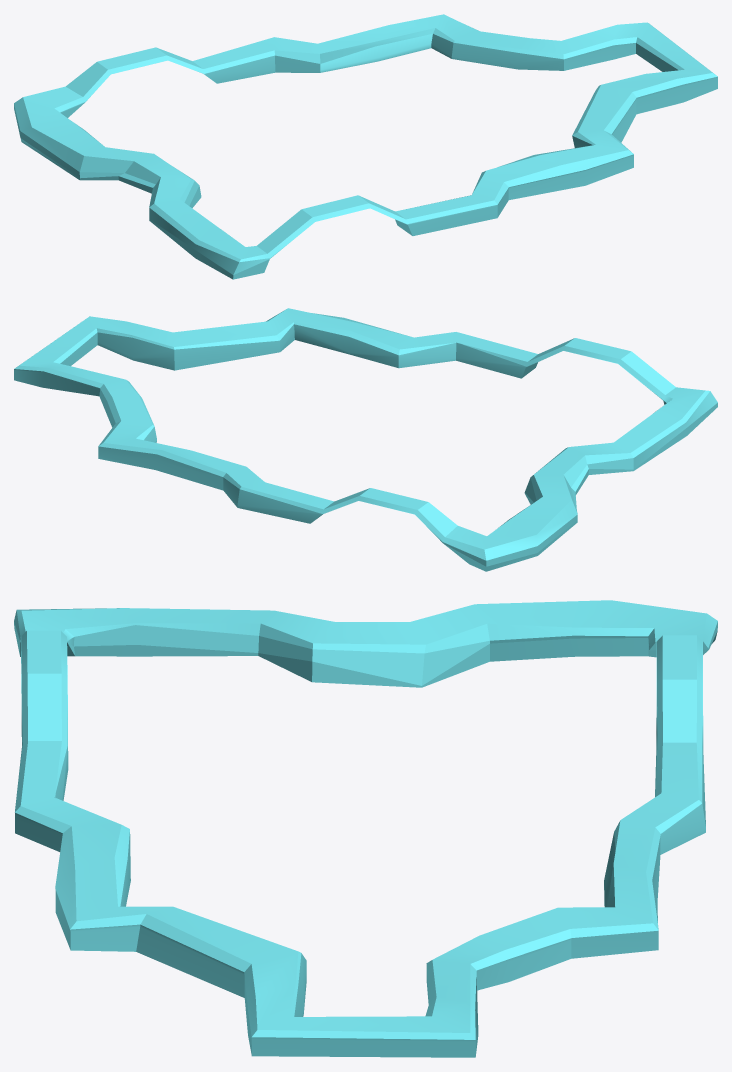
Rendered from SM_IsleLVL2TrainPath_TD_01.fbx.
3 views of the same model, one above another, from view 1: azimuth 30°, elevation 25°; view 2: azimuth 150°, elevation 25°; view 3: azimuth 270°, elevation 25° (orthographic). The views are drawn at different scales.
Parts seen in each view (by area): view 1: TrainPath1; view 2: TrainPath1; view 3: TrainPath1.
Boxes of the visible parts, left/top/right/bottom form: TrainPath1: left=14, top=14, right=717, bottom=279; TrainPath1: left=14, top=308, right=717, bottom=571; TrainPath1: left=14, top=600, right=717, bottom=1057.
Size of the model in its own units: 8197 by 630 by 5561.
